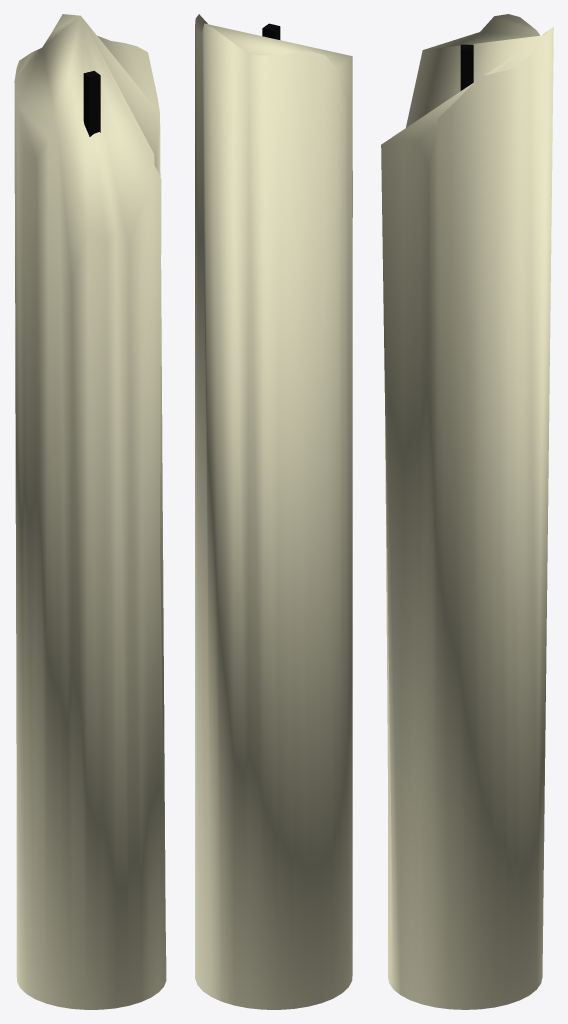
The model's file is candle_m3.fbx.
3 renders of one model, left to right at view 1: azimuth 30°, elevation 25°; view 2: azimuth 150°, elevation 25°; view 3: azimuth 270°, elevation 25°, orthographic. The views are drawn at different scales.
Parts seen in each view (by area): view 1: Candle; view 2: Candle; view 3: Candle.
Boxes of the visible parts, x1,y1,x2,y2 form: Candle: (14, 14, 166, 1009); Candle: (195, 14, 352, 1009); Candle: (381, 14, 553, 1009).
Size of the model in its own units: 0.134 by 0.1222 by 0.8199.
